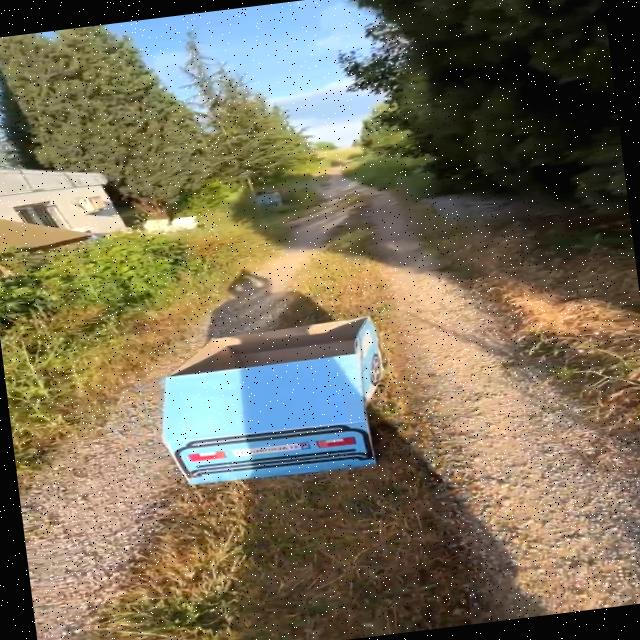blue_car: (128, 287, 453, 500)
